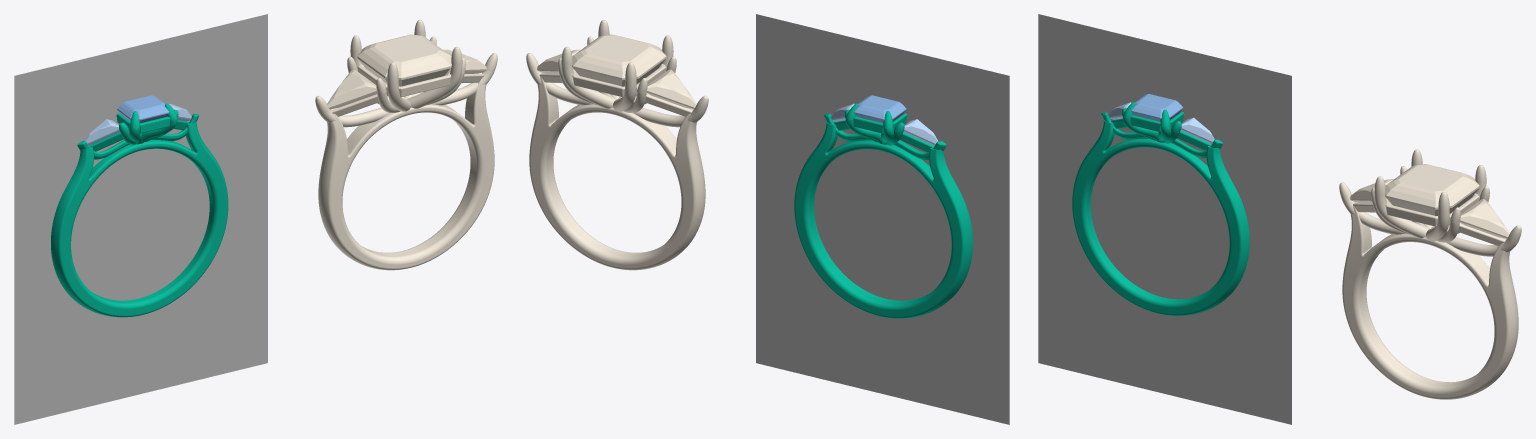
3 views of the same model, side by side, from view 1: azimuth 30°, elevation 25°; view 2: azimuth 150°, elevation 25°; view 3: azimuth 330°, elevation 25° (orthographic).
Parts seen in each view (by area): view 1: TRIRANGLE(front).3dm, Diamond_Emerald Square, Diamond_Triangle (×2), Bezel (×2), Diamond_Emerald; view 2: TRIRANGLE(front).3dm, Diamond_Emerald Square, Diamond_Triangle (×2), Bezel (×2), Diamond_Emerald; view 3: TRIRANGLE(front).3dm, Diamond_Emerald Square, Diamond_Triangle (×2), Bezel (×2), Diamond_Emerald.
Part boxes in pixels (x1,y1,x2,y2): TRIRANGLE(front).3dm: (14,14,497,424); Diamond_Emerald Square: (357,34,451,86); Diamond_Triangle (×2): (86,69,377,145); Bezel (×2): (116,64,451,133); Diamond_Emerald: (117,95,169,123); TRIRANGLE(front).3dm: (526,14,1009,424); Diamond_Emerald Square: (572,34,666,86); Diamond_Triangle (×2): (646,69,938,145); Bezel (×2): (572,64,907,133); Diamond_Emerald: (854,95,906,123); TRIRANGLE(front).3dm: (1038,14,1521,424); Diamond_Emerald Square: (1385,164,1479,215); Diamond_Triangle (×2): (1181,117,1509,238); Bezel (×2): (1130,112,1479,226); Diamond_Emerald: (1131,94,1182,121).
Bounding box in the file's own units: 6.95 × 4.8 × 1.06.
